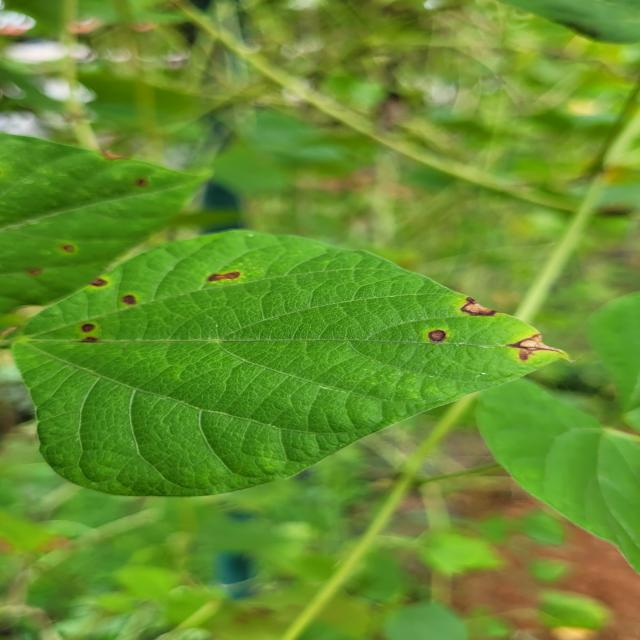Dolicos bean_cercospora leaf spot: (4, 231, 562, 496), (0, 129, 218, 298)
